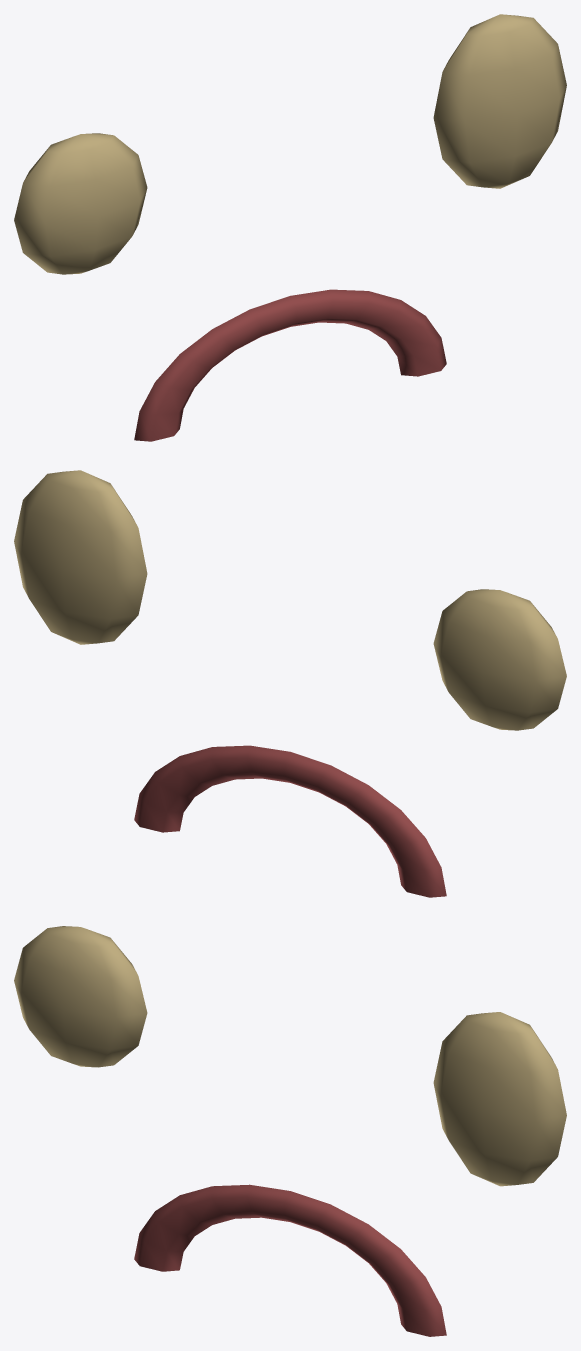
File: chief_face.glb
3 renders of one model, top to bottom at view 1: azimuth 30°, elevation 25°; view 2: azimuth 150°, elevation 25°; view 3: azimuth 330°, elevation 25°, orthographic.
Parts seen in each view (by area): view 1: eye_r, eye_l, mouth; view 2: eye_r, eye_l, mouth; view 3: eye_r, eye_l, mouth.
Boxes of the visible parts, left/top/right/bottom form: eye_r: left=433, top=14, right=566, bottom=188; eye_l: left=14, top=133, right=147, bottom=274; mouth: left=134, top=289, right=446, bottom=441; eye_r: left=14, top=470, right=147, bottom=644; eye_l: left=433, top=589, right=566, bottom=730; mouth: left=134, top=745, right=446, bottom=897; eye_r: left=433, top=1012, right=566, bottom=1186; eye_l: left=14, top=926, right=147, bottom=1067; mouth: left=134, top=1184, right=446, bottom=1336.
Bounding box in the file's own units: 0.29 × 0.1688 × 0.0315.
